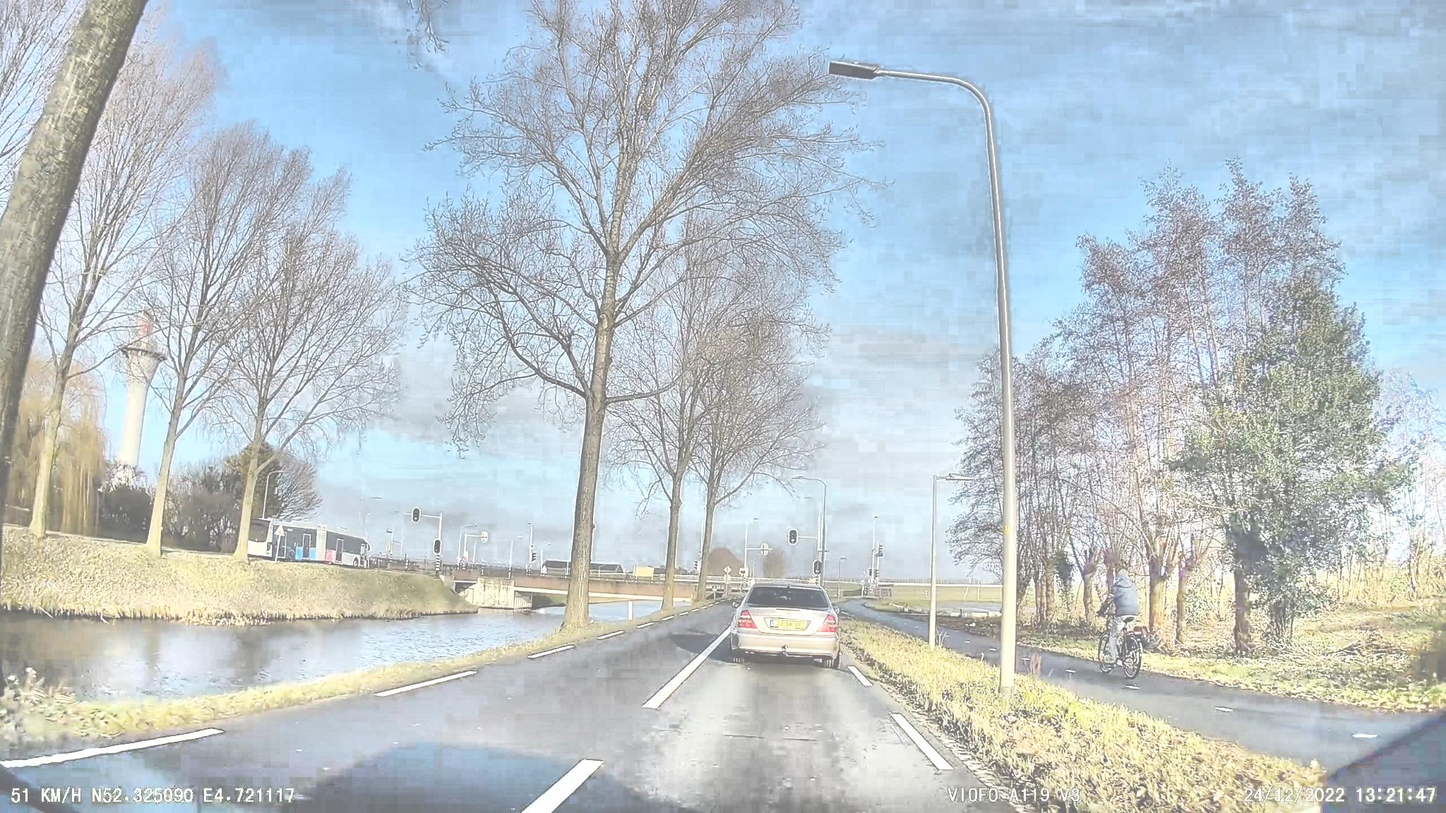Roads: (0, 606, 1051, 813)
